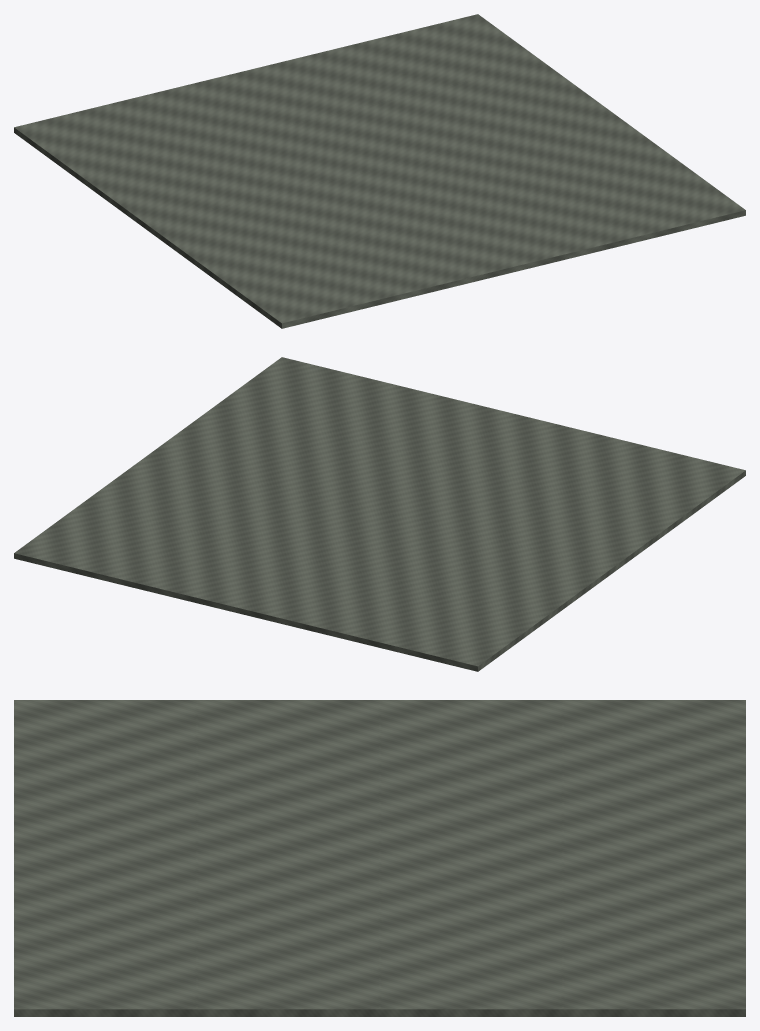
Rendered from plaza_tile_8m_LOD1.glb.
3 views of the same model, one above another, from view 1: azimuth 30°, elevation 25°; view 2: azimuth 150°, elevation 25°; view 3: azimuth 270°, elevation 25° (orthographic). The views are drawn at different scales.
Visible parts, largest first — view 1: plaza_tile_8m__surface.001; view 2: plaza_tile_8m__surface.001; view 3: plaza_tile_8m__surface.001.
Boxes of the visible parts, x1,y1,x2,y2 form: plaza_tile_8m__surface.001: (14,14,745,328); plaza_tile_8m__surface.001: (14,357,745,671); plaza_tile_8m__surface.001: (14,700,745,1016).
Bounding box in the file's own units: 8 × 0.095 × 8.
2 materials, 2 textured.
